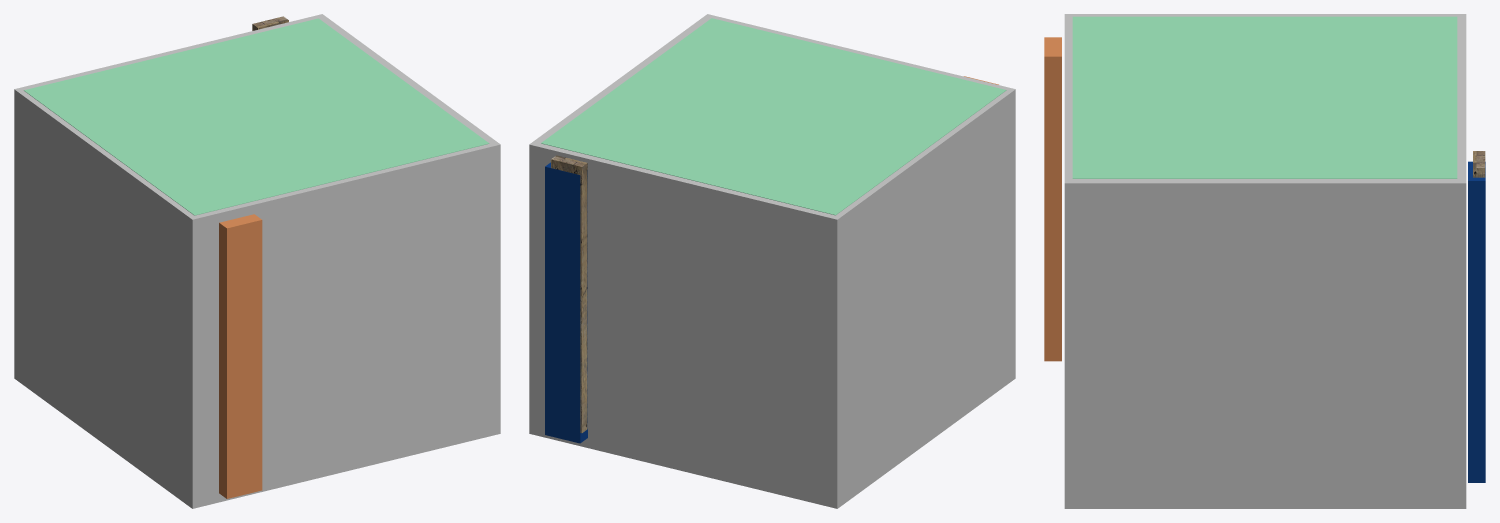
File: crate_square_broken.DAE
The picture shows the model from 3 angles, left to right: view 1: azimuth 30°, elevation 25°; view 2: azimuth 150°, elevation 25°; view 3: azimuth 270°, elevation 25°; orthographic projection. The views are drawn at different scales.
Visible parts, largest first — view 1: bounds, colbox-4, colbox-3; view 2: bounds, colbox-4, colbox-2, cratesquarebrokenc15; view 3: bounds, colbox-4, colbox-3, colbox-2.
Boxes of the visible parts, x1,y1,x2,y2 form: bounds: (14, 14, 500, 508); colbox-4: (24, 18, 489, 215); colbox-3: (219, 214, 262, 498); bounds: (529, 14, 1015, 508); colbox-4: (541, 18, 1006, 215); colbox-2: (545, 162, 587, 443); cratesquarebrokenc15: (551, 155, 587, 433); bounds: (1064, 14, 1466, 508); colbox-4: (1072, 16, 1457, 178); colbox-3: (1044, 37, 1061, 361); colbox-2: (1468, 161, 1485, 482).
Bounding box in the file's own units: 1.26 × 1.39 × 1.13.
